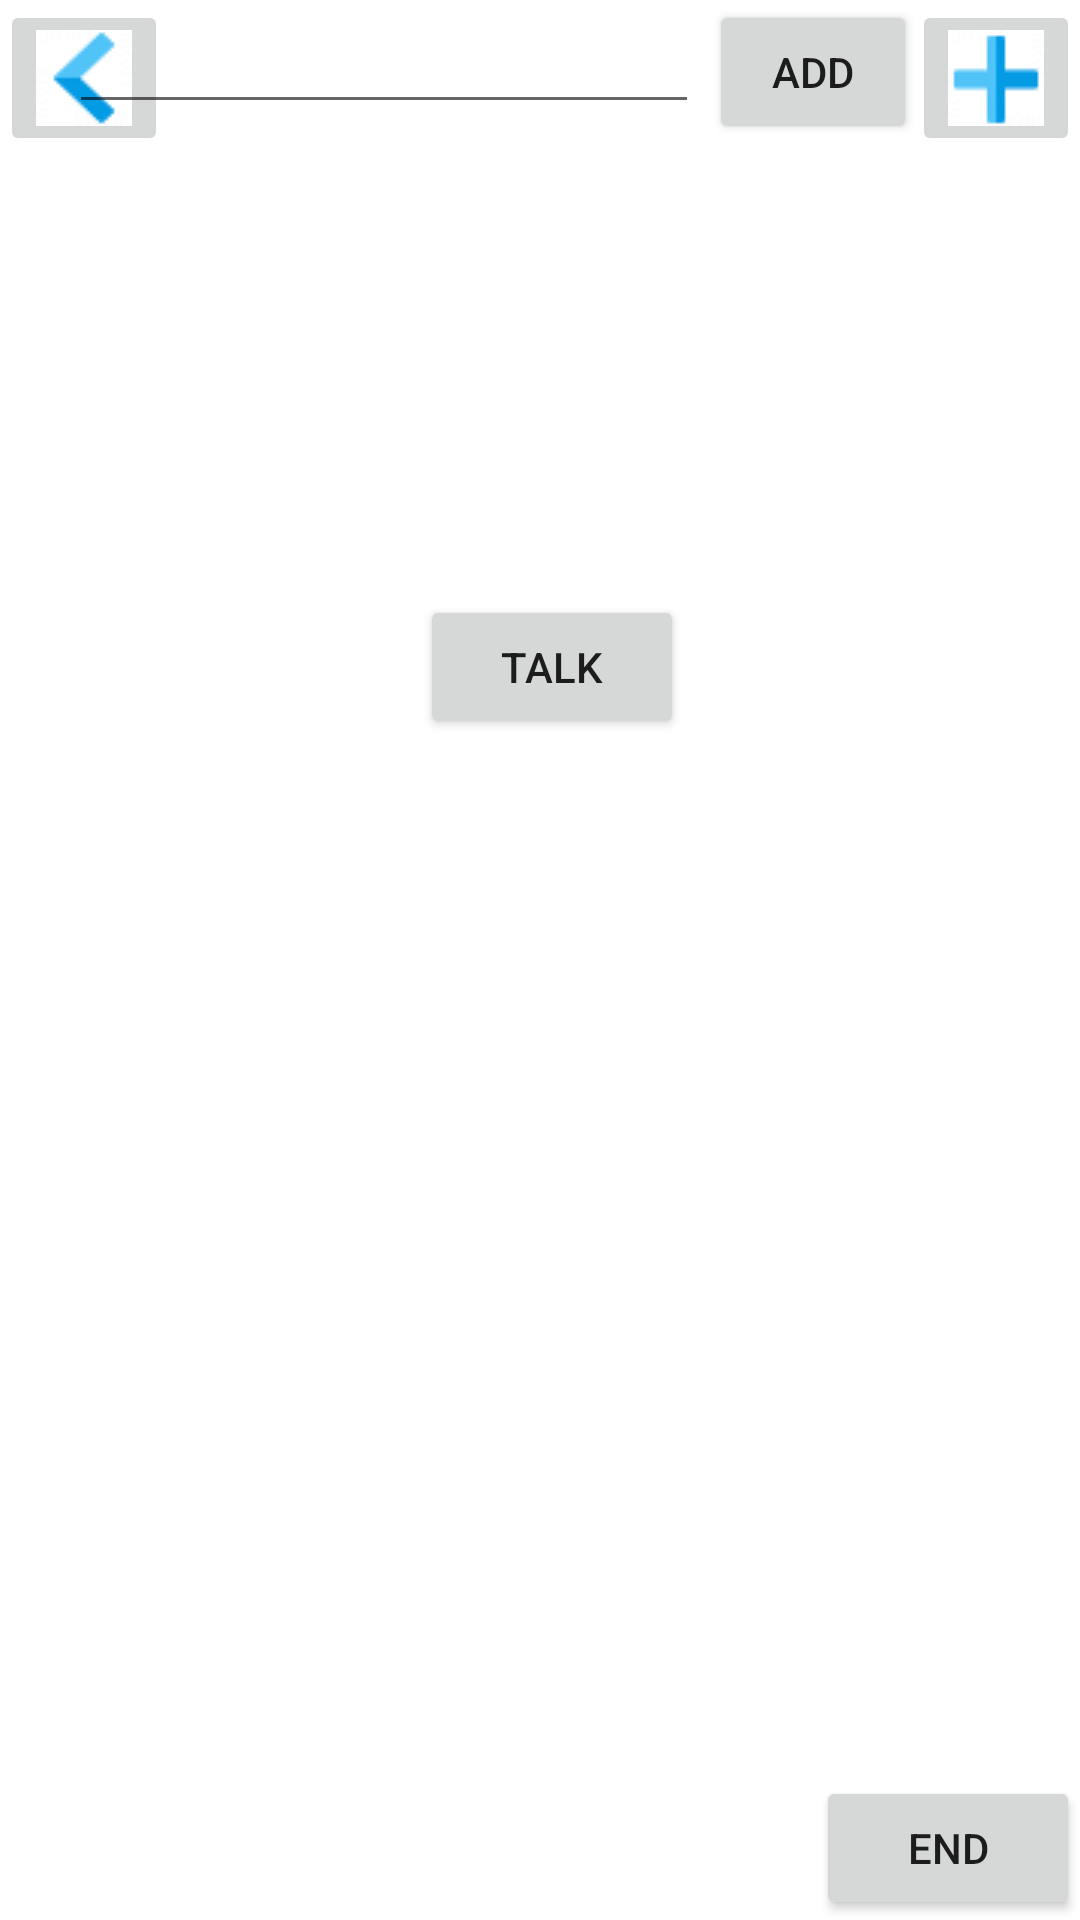

Named icons in this screenshot (1080w x 1920h) and their bounding boxes, (x1, y1, x2, y2):
navigate left: (12, 18, 168, 138)
navigate plus: (924, 18, 1068, 138)
